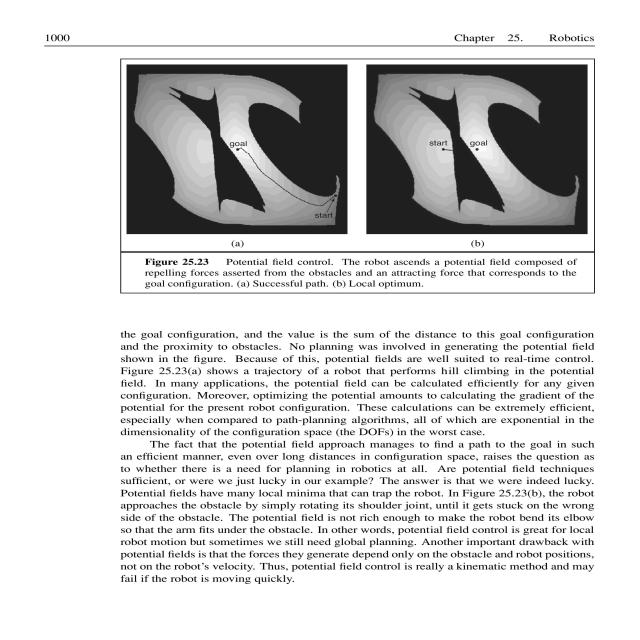diagram: (126, 55, 595, 294)
